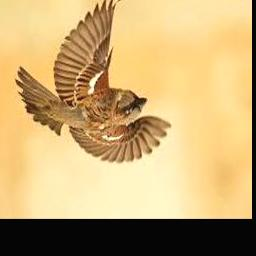Sparrow: (15, 0, 172, 164)
